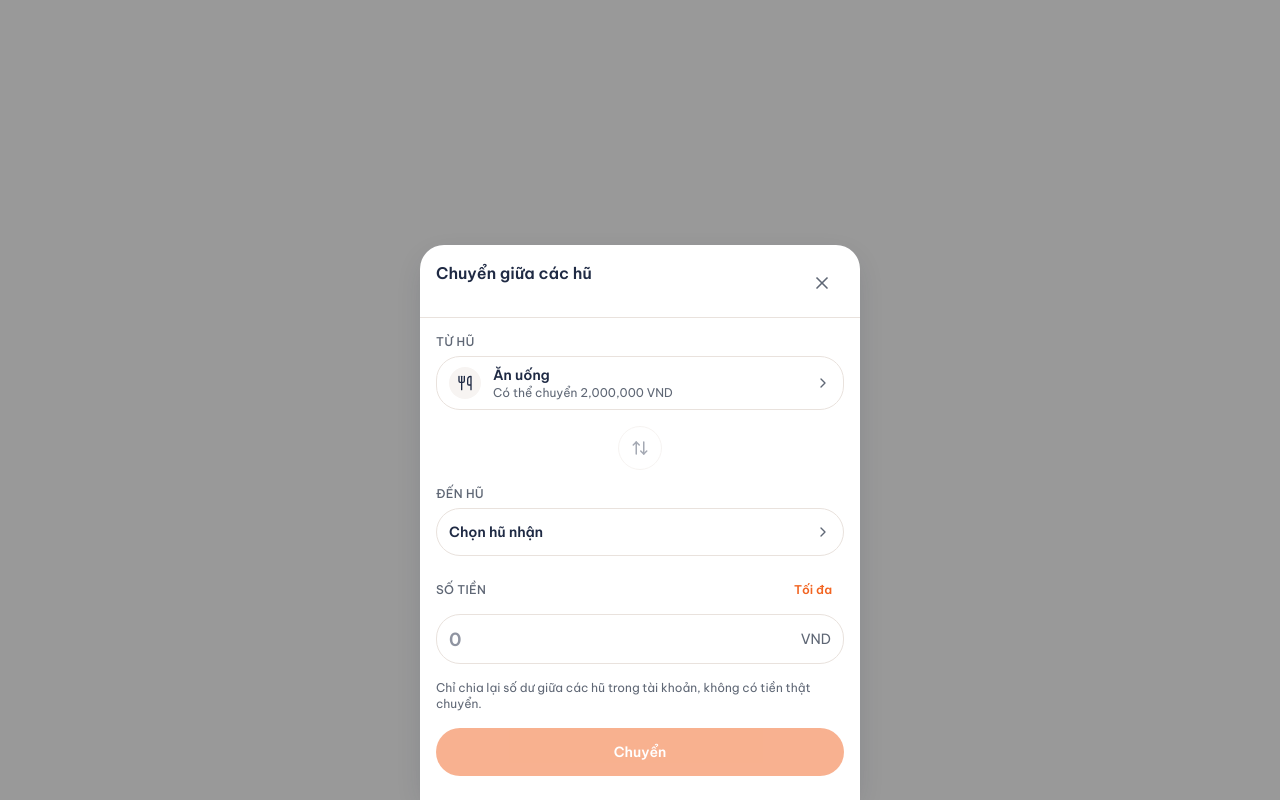
Test: JarTransferSheet — endpoint selection › shows an unfunded jar disabled in the picker with 'Chưa có số dư'
Click the button "Chọn hũ nhận".
click(496, 532)  # box [436,508,844,556]
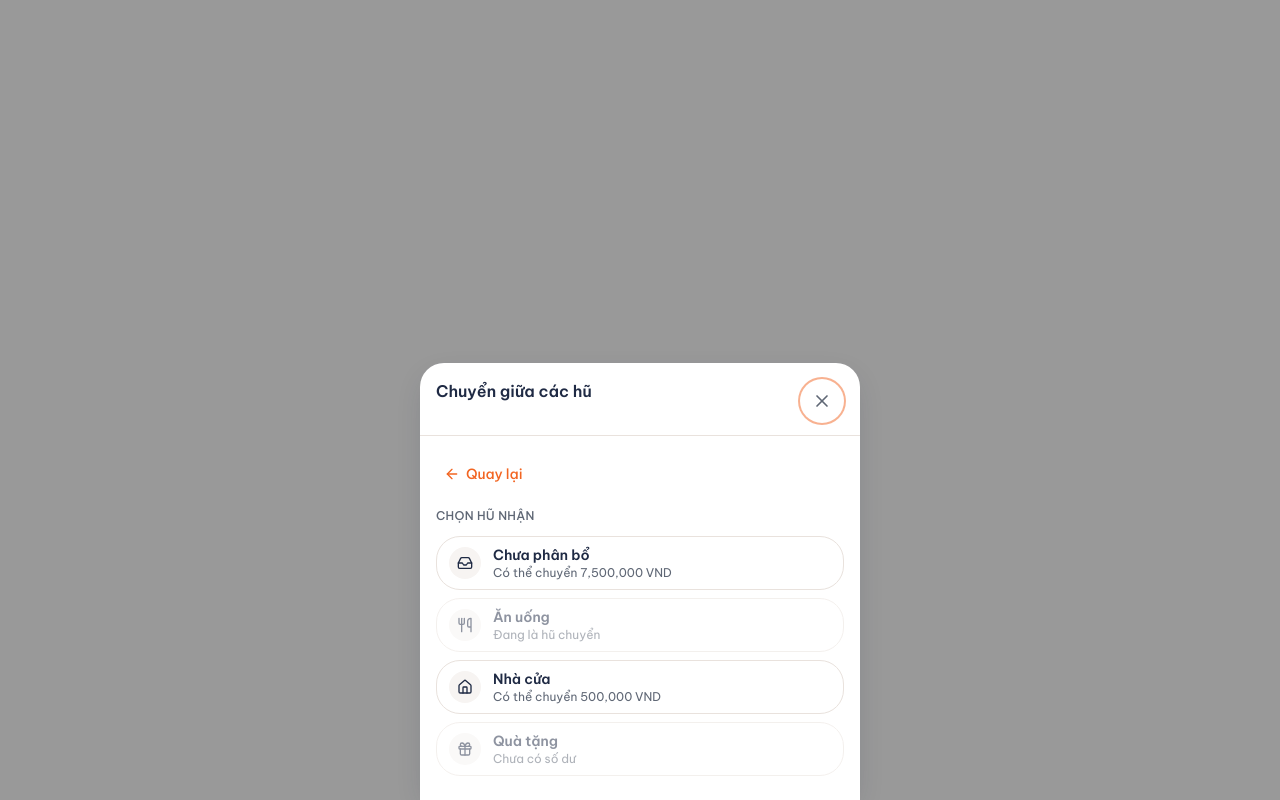
Expected: the button "Quà tặng Chưa có số dư" is disabled, [436,722,844,776]
Expected: the text "Chưa có số dư" is shown, [493,751,576,766]
